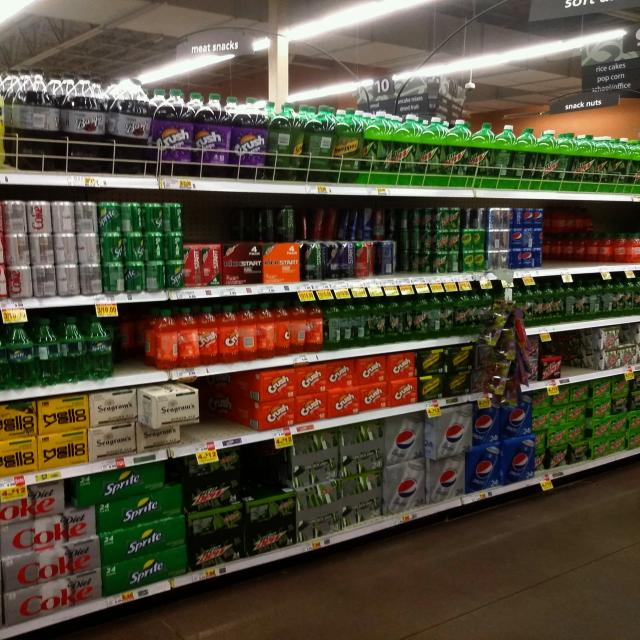empty_space: (185, 204, 225, 242), (561, 346, 575, 380)
